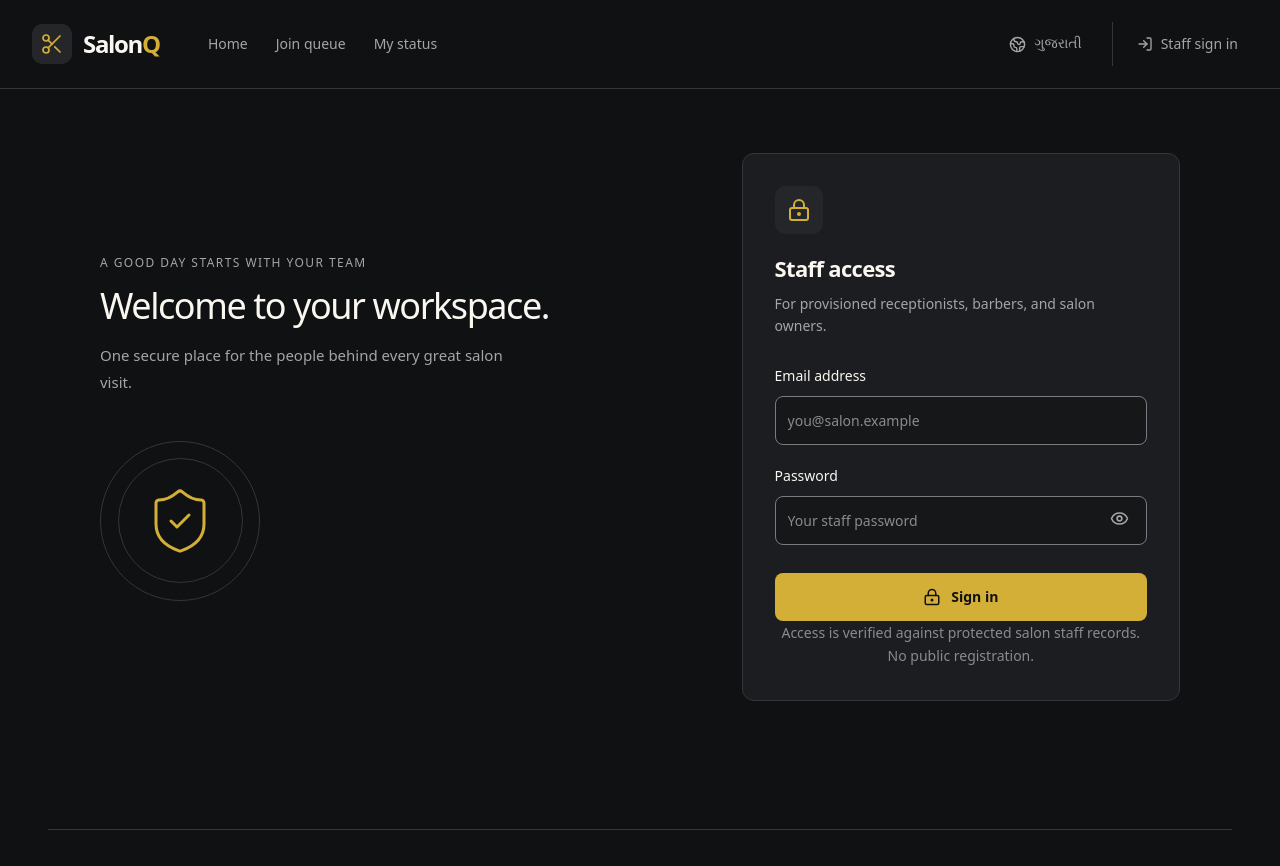
Scenario: staff routes and credential form › shows friendly credential failure without exposing backend text
This screenshot has width=1280, height=866.
Type "staff@salonq.example" into the field labelled "Email address" at (961, 421), box left=775, top=396, right=1147, bottom=445
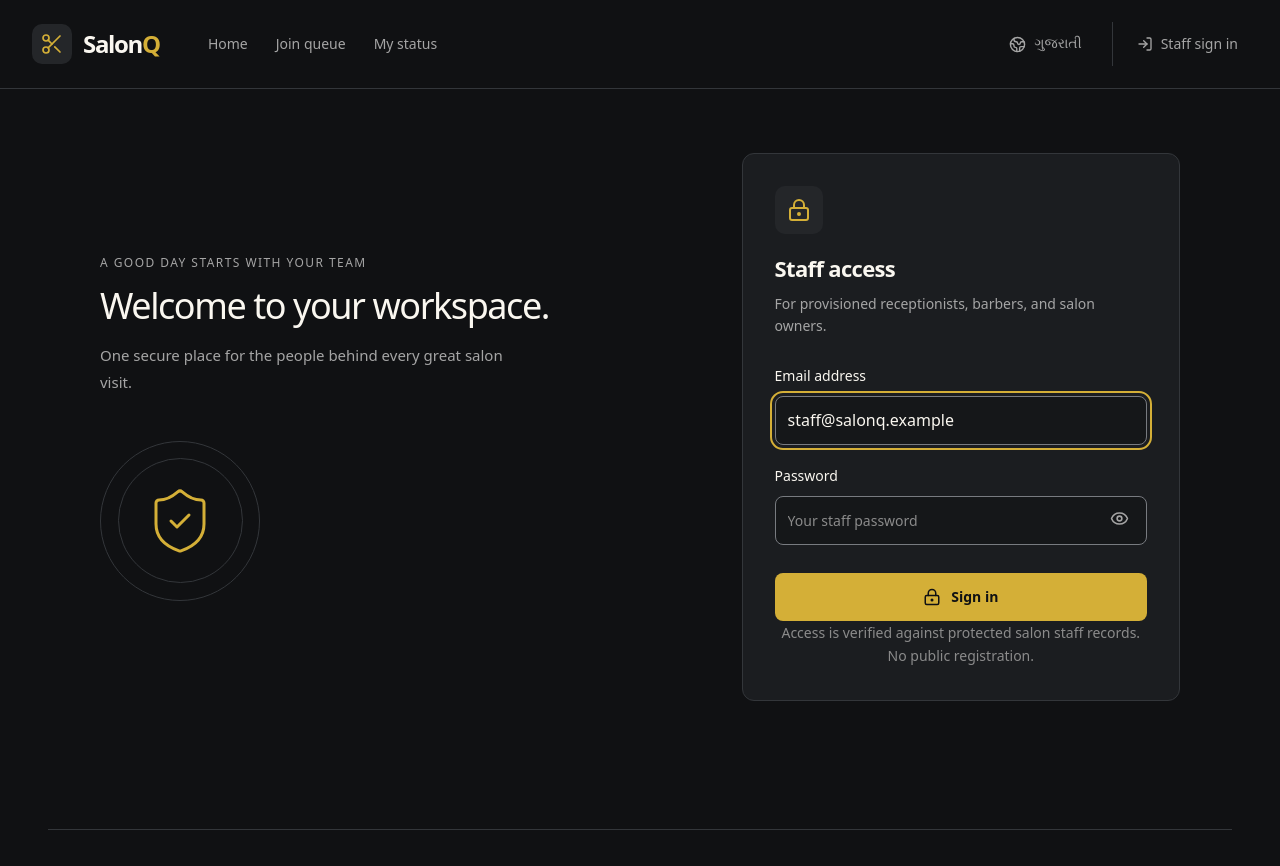
Type "unit-only" into the password field labelled "Password" at (961, 521), box left=775, top=496, right=1147, bottom=545
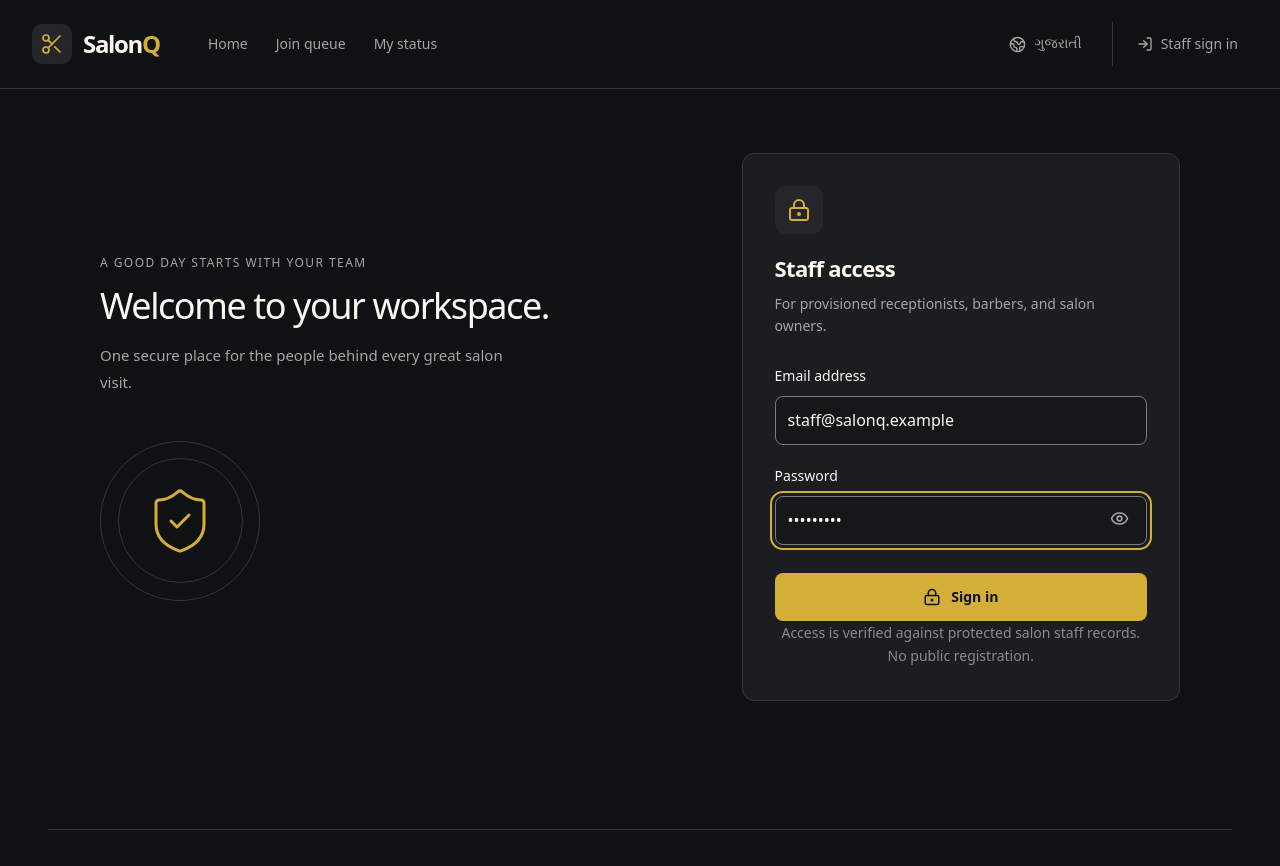
Click the button "Sign in" at (961, 597), box left=775, top=573, right=1147, bottom=621
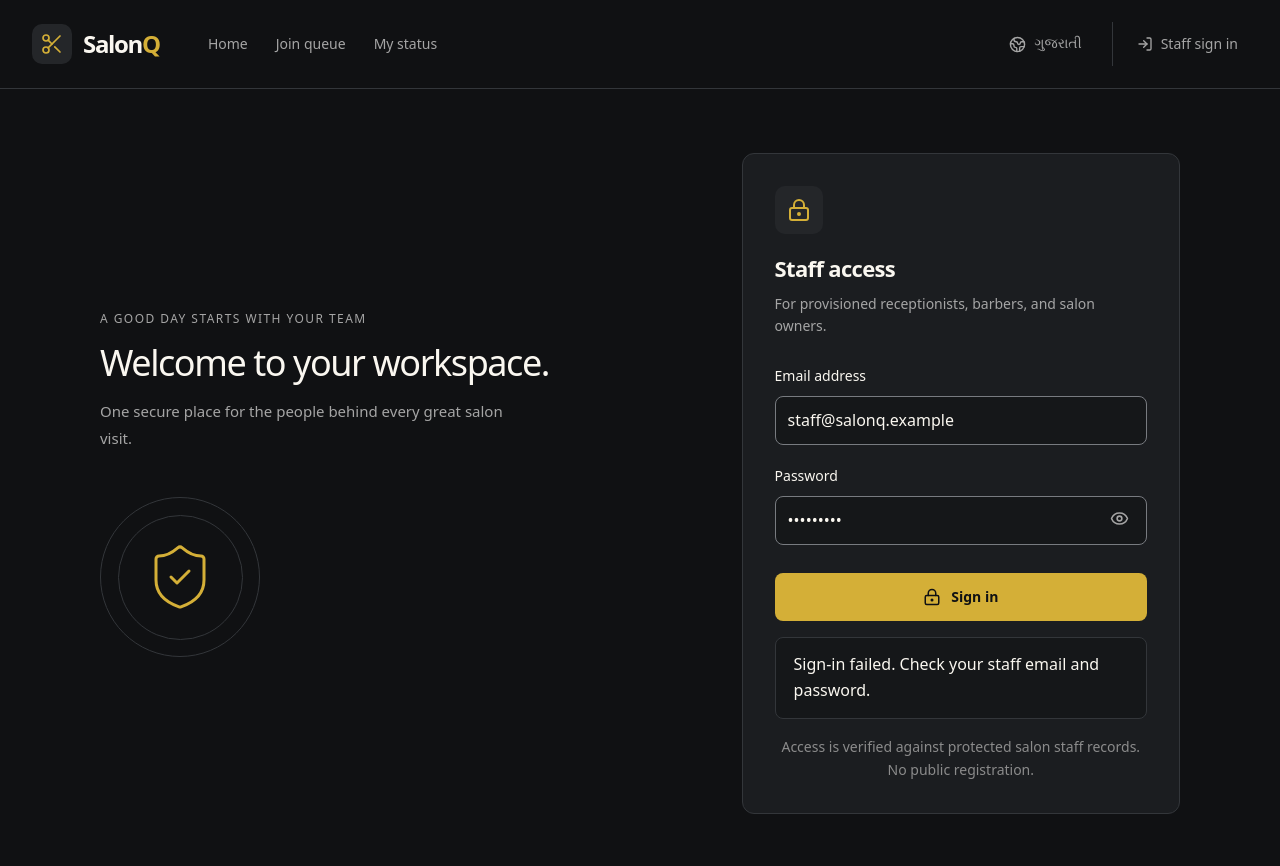
Expected: the text "Sign-in failed. Check your staff email and password." is shown, left=775, top=637, right=1147, bottom=718
